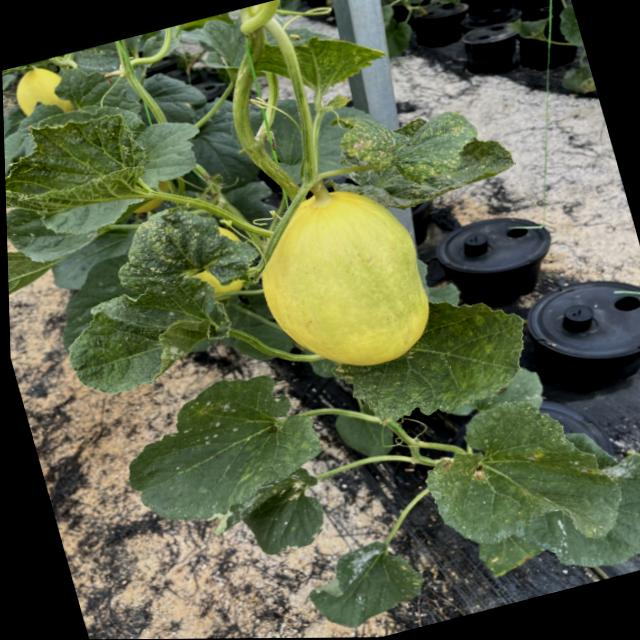CMV: (408, 379, 639, 578), (311, 270, 546, 441)
SLCV: (31, 189, 288, 401), (315, 75, 521, 225), (3, 99, 170, 236), (287, 18, 396, 102)
alternaria leaf blight: (400, 378, 640, 584), (93, 357, 345, 539)
downy mildew: (104, 351, 362, 538)
powdery mildew: (80, 357, 352, 541)
